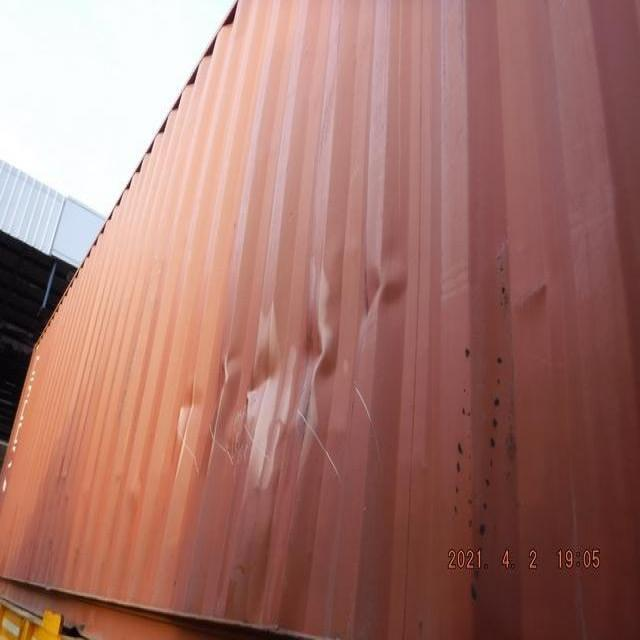Dent: (157, 235, 418, 491)
